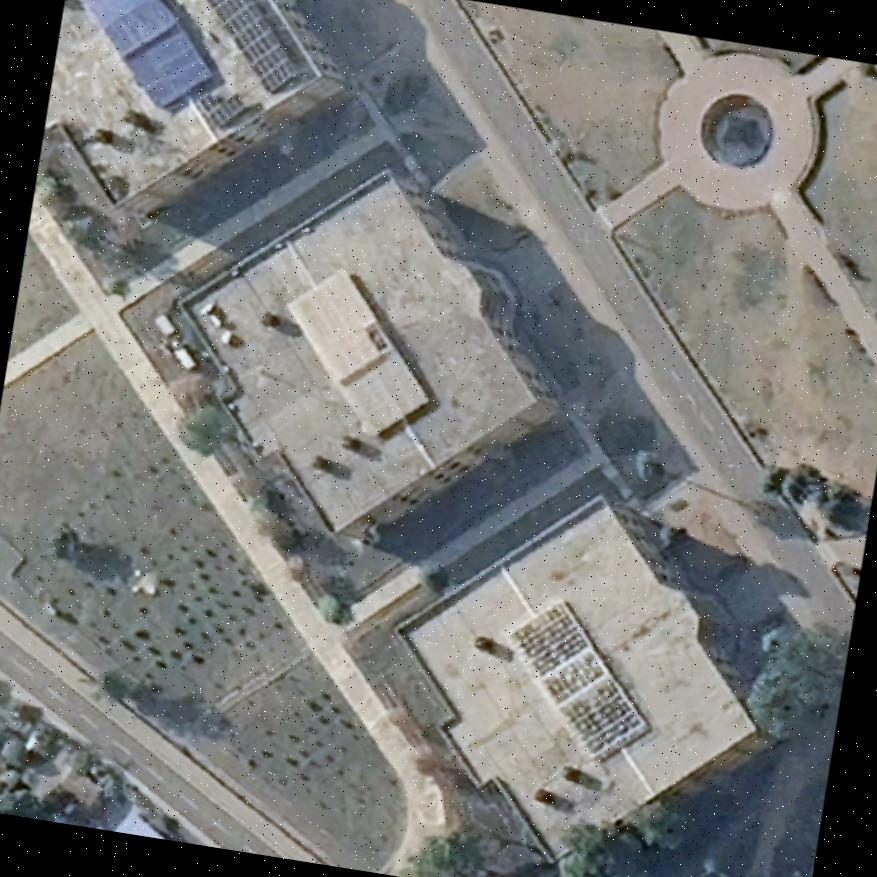Solarpanel: (204, 0, 299, 100), (191, 85, 248, 134)
